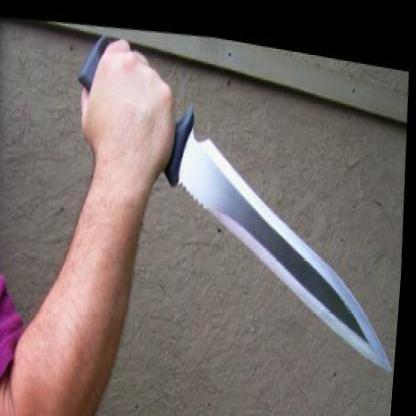knife: (57, 11, 415, 390)
